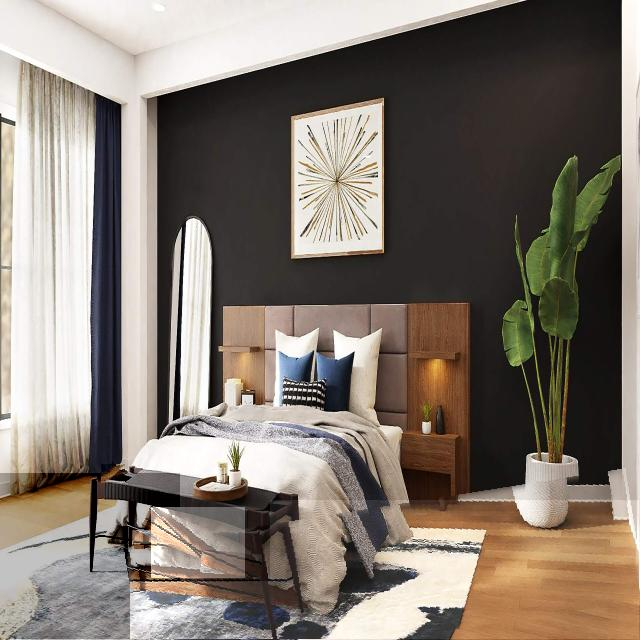floor: (270, 500, 640, 640), (0, 473, 180, 640), (131, 582, 274, 640), (151, 507, 245, 578), (202, 550, 260, 577), (132, 530, 179, 544), (101, 465, 125, 483)
